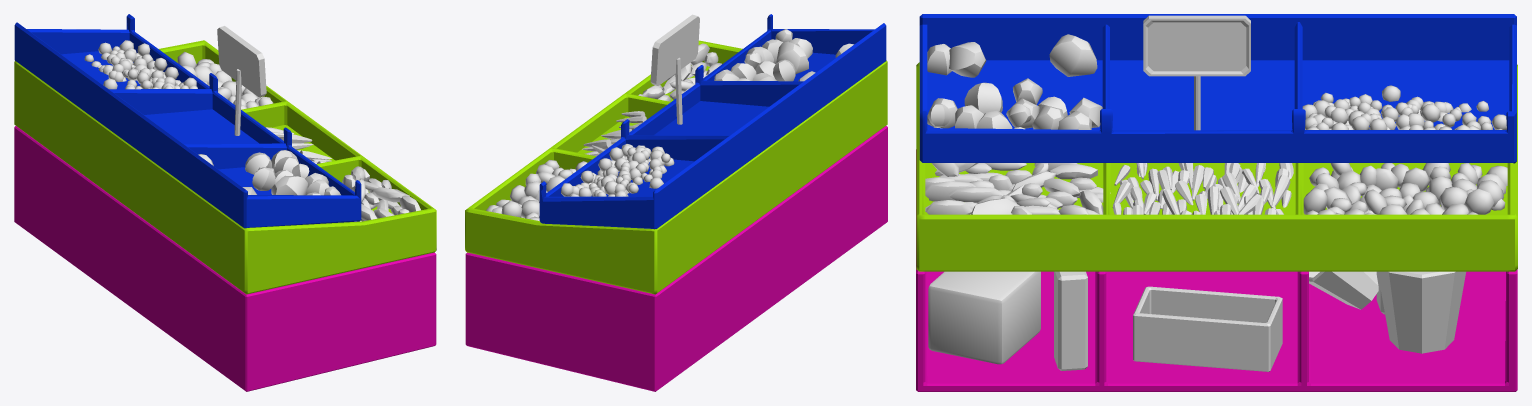
The model's file is stand_fruits.fbx.
3 renders of one model, left to right at view 1: azimuth 30°, elevation 25°; view 2: azimuth 150°, elevation 25°; view 3: azimuth 270°, elevation 25°, orthographic. The views are drawn at different scales.
Visible parts, largest first — view 1: Cube.016, Cube.017, Cube.020, Sphere.255, Sphere.013, Cube.098, Sphere.032, Sphere.092, Cube.070, Cube.097; view 2: Cube.016, Cube.017, Cube.020, Sphere.255, Sphere.013, Cube.098, Sphere.092, Sphere.032, Cube.070, Cube.097; view 3: Cube.020, Cube.017, Cube.016, Cube.096, Sphere.092, Cube.094, Sphere.032, Cube.070, Cube.098, Sphere.013, Cylinder.007, Sphere.255 (+4 smaller).
Part boxes in pixels (box(x1,y1,x2,y2)): Cube.016: box(14, 126, 436, 391); Cube.017: box(14, 40, 436, 294); Cube.020: box(14, 14, 361, 228); Sphere.255: box(84, 42, 197, 89); Sphere.013: box(245, 150, 340, 195); Cube.098: box(217, 26, 266, 97); Sphere.032: box(342, 166, 420, 222); Sphere.092: box(177, 51, 273, 109); Cube.070: box(265, 127, 331, 163); Cube.097: box(234, 69, 241, 135); Cube.016: box(465, 125, 887, 391); Cube.017: box(465, 40, 887, 294); Cube.020: box(539, 14, 886, 229); Sphere.255: box(561, 144, 674, 196); Sphere.013: box(714, 29, 812, 81); Cube.098: box(650, 14, 699, 85); Sphere.092: box(486, 160, 587, 220); Sphere.032: box(638, 43, 721, 101); Cube.070: box(582, 111, 646, 156); Cube.097: box(675, 57, 682, 124); Cube.020: box(919, 14, 1516, 163); Cube.017: box(916, 62, 1517, 271); Cube.016: box(916, 149, 1517, 391); Cube.096: box(1133, 286, 1282, 371); Sphere.092: box(1303, 163, 1507, 214); Cube.094: box(928, 271, 1040, 364); Sphere.032: box(925, 163, 1110, 214); Cube.070: box(1112, 163, 1291, 214); Cube.098: box(1143, 15, 1250, 76); Sphere.013: box(927, 44, 1102, 129); Cylinder.007: box(1377, 271, 1465, 353); Sphere.255: box(1302, 85, 1506, 129).
Size of the model in its own units: 169 by 208 by 354.
